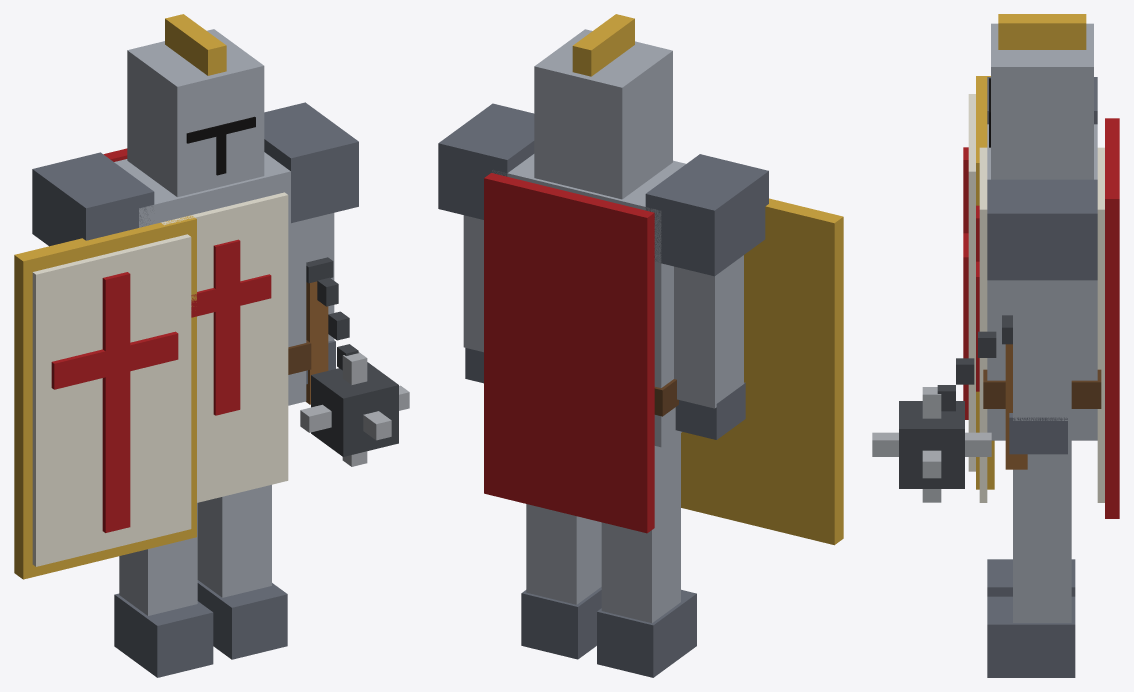
File: paladin_placeholder.glb
The picture shows the model from 3 angles, left to right: view 1: azimuth 30°, elevation 25°; view 2: azimuth 150°, elevation 25°; view 3: azimuth 270°, elevation 25°; orthographic projection. The views are drawn at different scales.
Visible parts, largest first — view 1: paladin_placeholder; view 2: paladin_placeholder; view 3: paladin_placeholder.
Part boxes in pixels (x1,y1,x2,y2): paladin_placeholder: (14,14,409,677); paladin_placeholder: (438,14,843,677); paladin_placeholder: (872,14,1119,677).
Bounding box in the file's own units: 1.16 × 1.88 × 0.672.
Materials: 1 (1 with a texture image).
